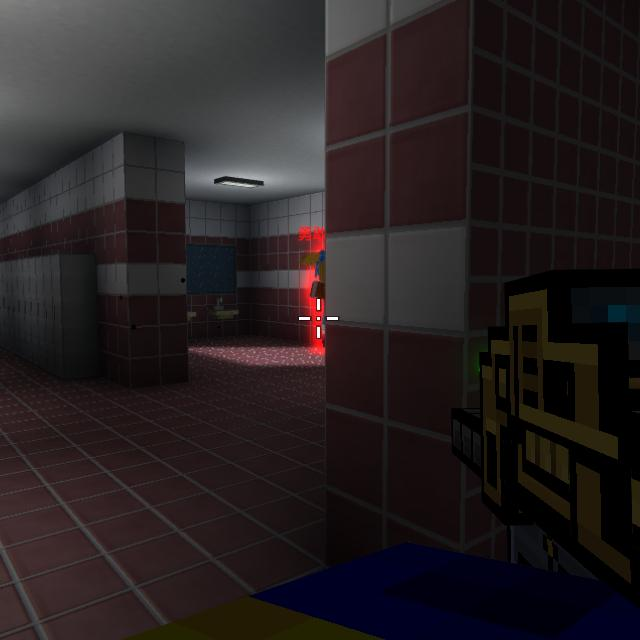Enemy: (310, 250, 325, 348)
